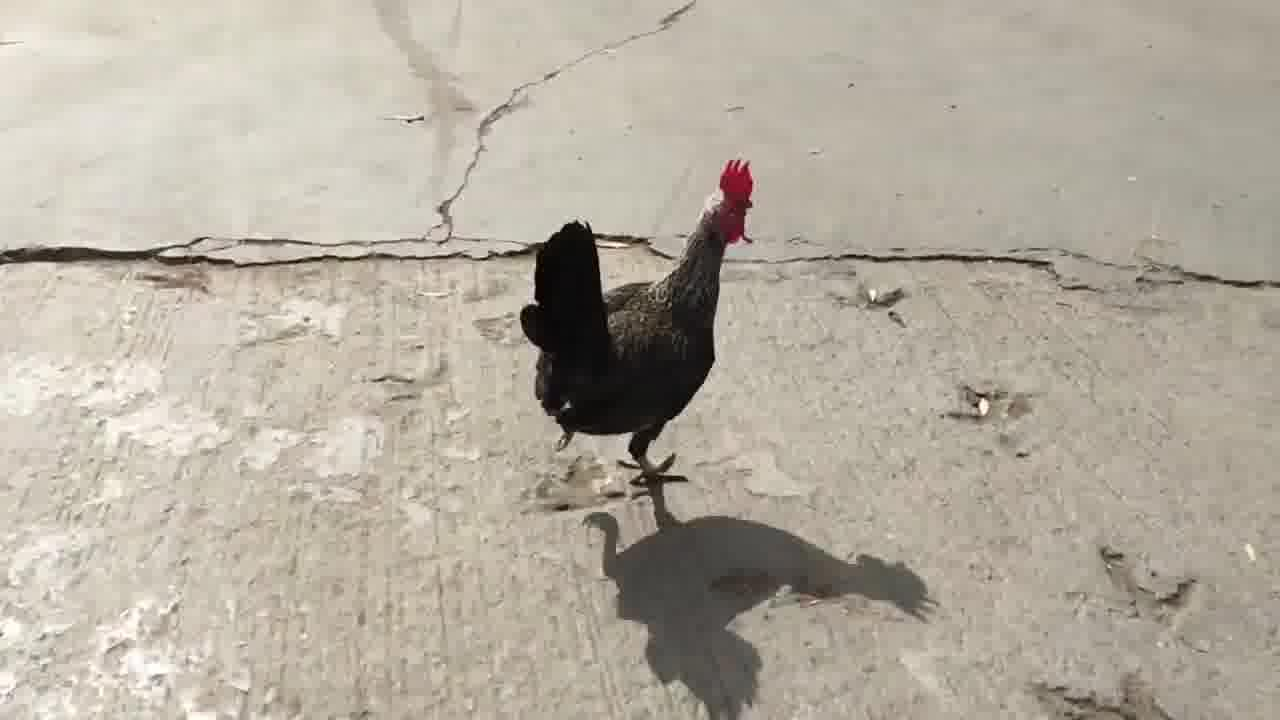Normal: (502, 144, 776, 530)
